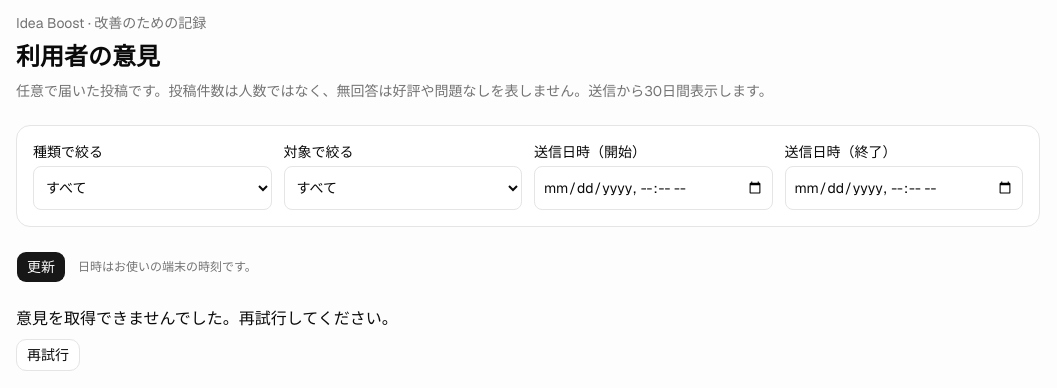
Scenario: 取得失敗は空一覧と区別して再試行できる
This screenshot has width=1057, height=388.
Expected: the message "意見を取得できませんでした。再試行してください。 再試行" is shown, [16,308,398,371]
Expected: the text "条件に合う意見はありません。" is not shown
Click the button "再試行" at [48, 355], box [16,339,80,371]
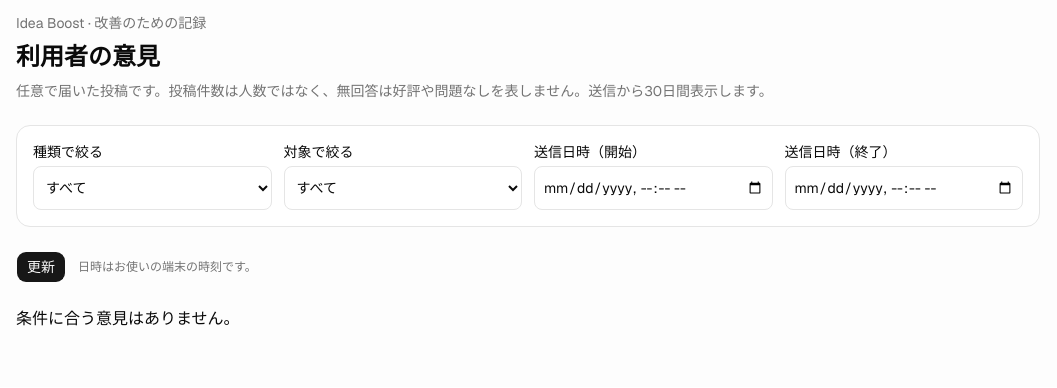
Expected: the text "条件に合う意見はありません。" is shown, [16,308,240,329]
